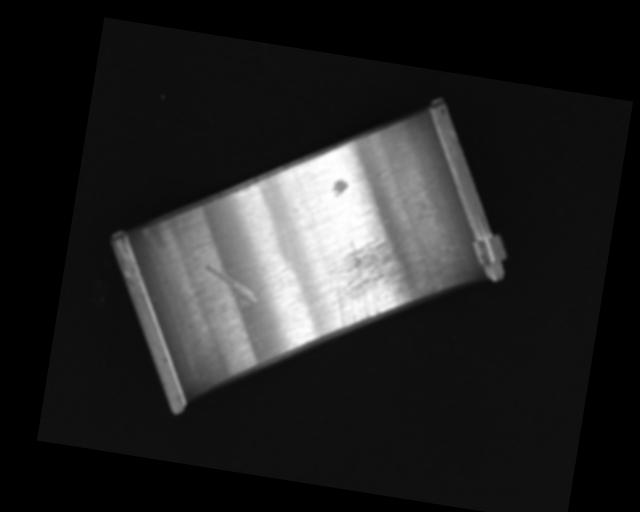bruise: (331, 176, 349, 199)
nick: (200, 264, 261, 309), (243, 275, 275, 350)
scratch: (316, 229, 444, 342)
